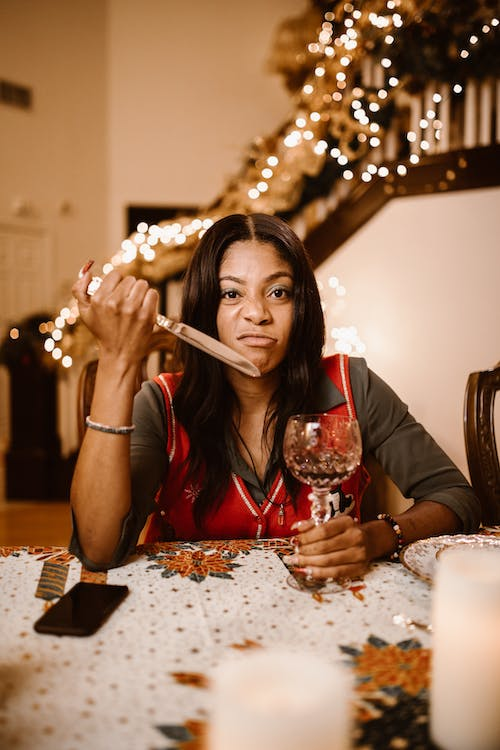alcohol: (279, 408, 366, 594)
knife: (84, 275, 264, 378)
